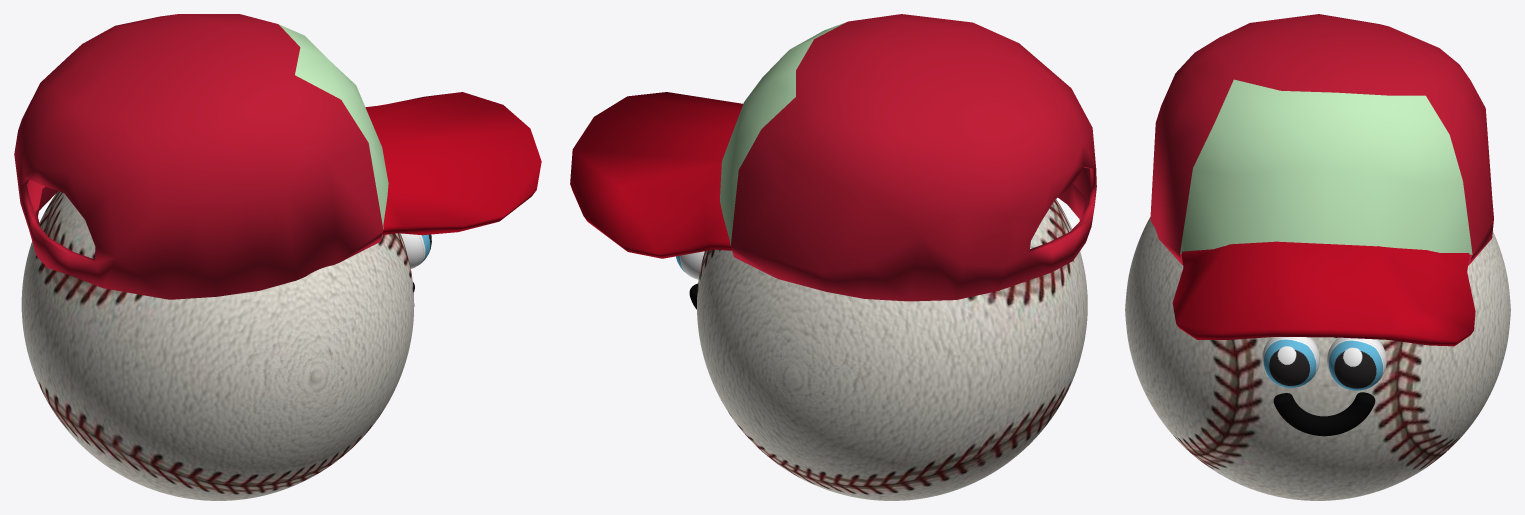
File: pelota.glb
The picture shows the model from 3 angles, left to right: view 1: azimuth 30°, elevation 25°; view 2: azimuth 150°, elevation 25°; view 3: azimuth 270°, elevation 25°; orthographic projection. The views are drawn at different scales.
Parts seen in each view (by area): view 1: Sphere; view 2: Sphere; view 3: Sphere.
Boxes of the visible parts, <box> form: Sphere: <box>14,14,541,500</box>; Sphere: <box>570,14,1096,500</box>; Sphere: <box>1125,14,1510,500</box>.
Bounding box in the file's own units: 1.5 × 1.35 × 1.08.
8 materials, 2 textured.
